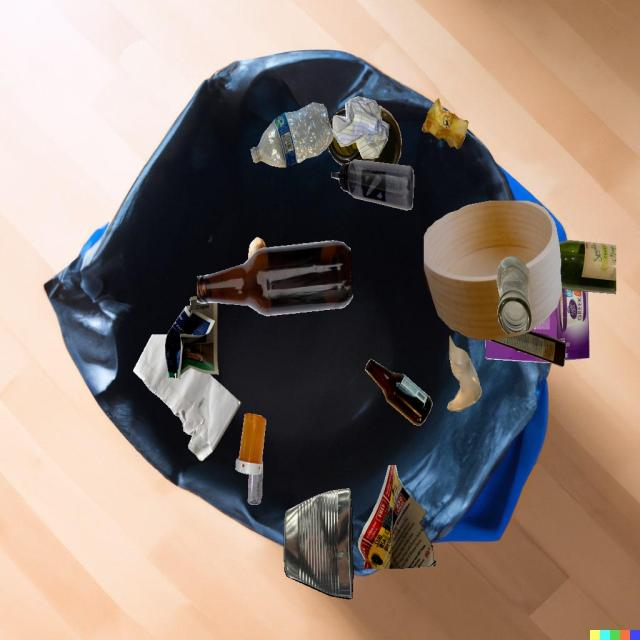biowaste: (422, 98, 469, 149), (248, 237, 267, 259)
cardboard: (530, 288, 589, 361), (489, 331, 566, 367), (485, 340, 552, 363)
combustible waste: (424, 201, 561, 340)
glass: (197, 240, 353, 316), (365, 359, 432, 426), (328, 105, 401, 165), (559, 240, 616, 294), (497, 256, 532, 334), (447, 336, 482, 411)
metal: (284, 488, 353, 599)
paper: (133, 334, 241, 461), (358, 465, 436, 569), (165, 296, 219, 378), (332, 96, 389, 158)
plastic: (251, 102, 334, 167), (331, 159, 414, 210), (235, 413, 266, 475), (248, 465, 263, 505)
